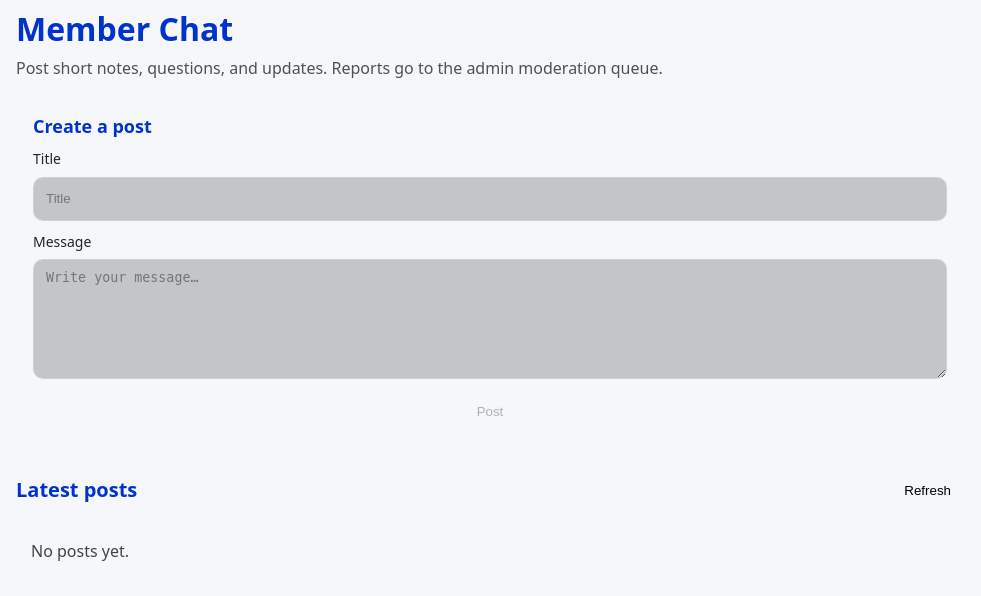
Test: Fan Club operational pages › renders chat empty and error states for member workflows
Check: the text "No posts yet." is shown, box [16, 524, 964, 580]
Click the button "Refresh": (928, 490) [891, 468, 964, 512]
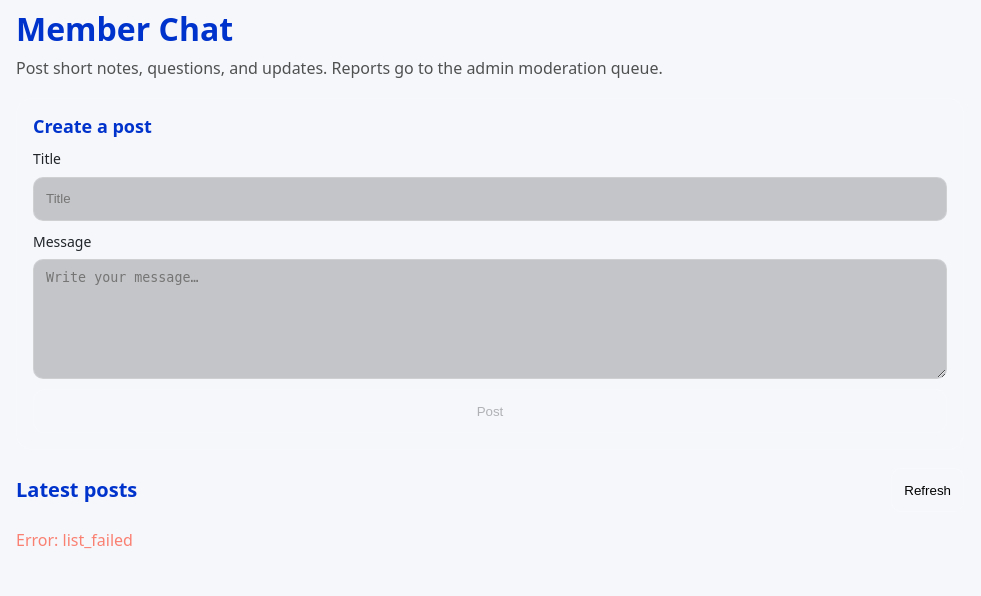
Check: the text "Error: list_failed" is shown, box [16, 529, 133, 551]
